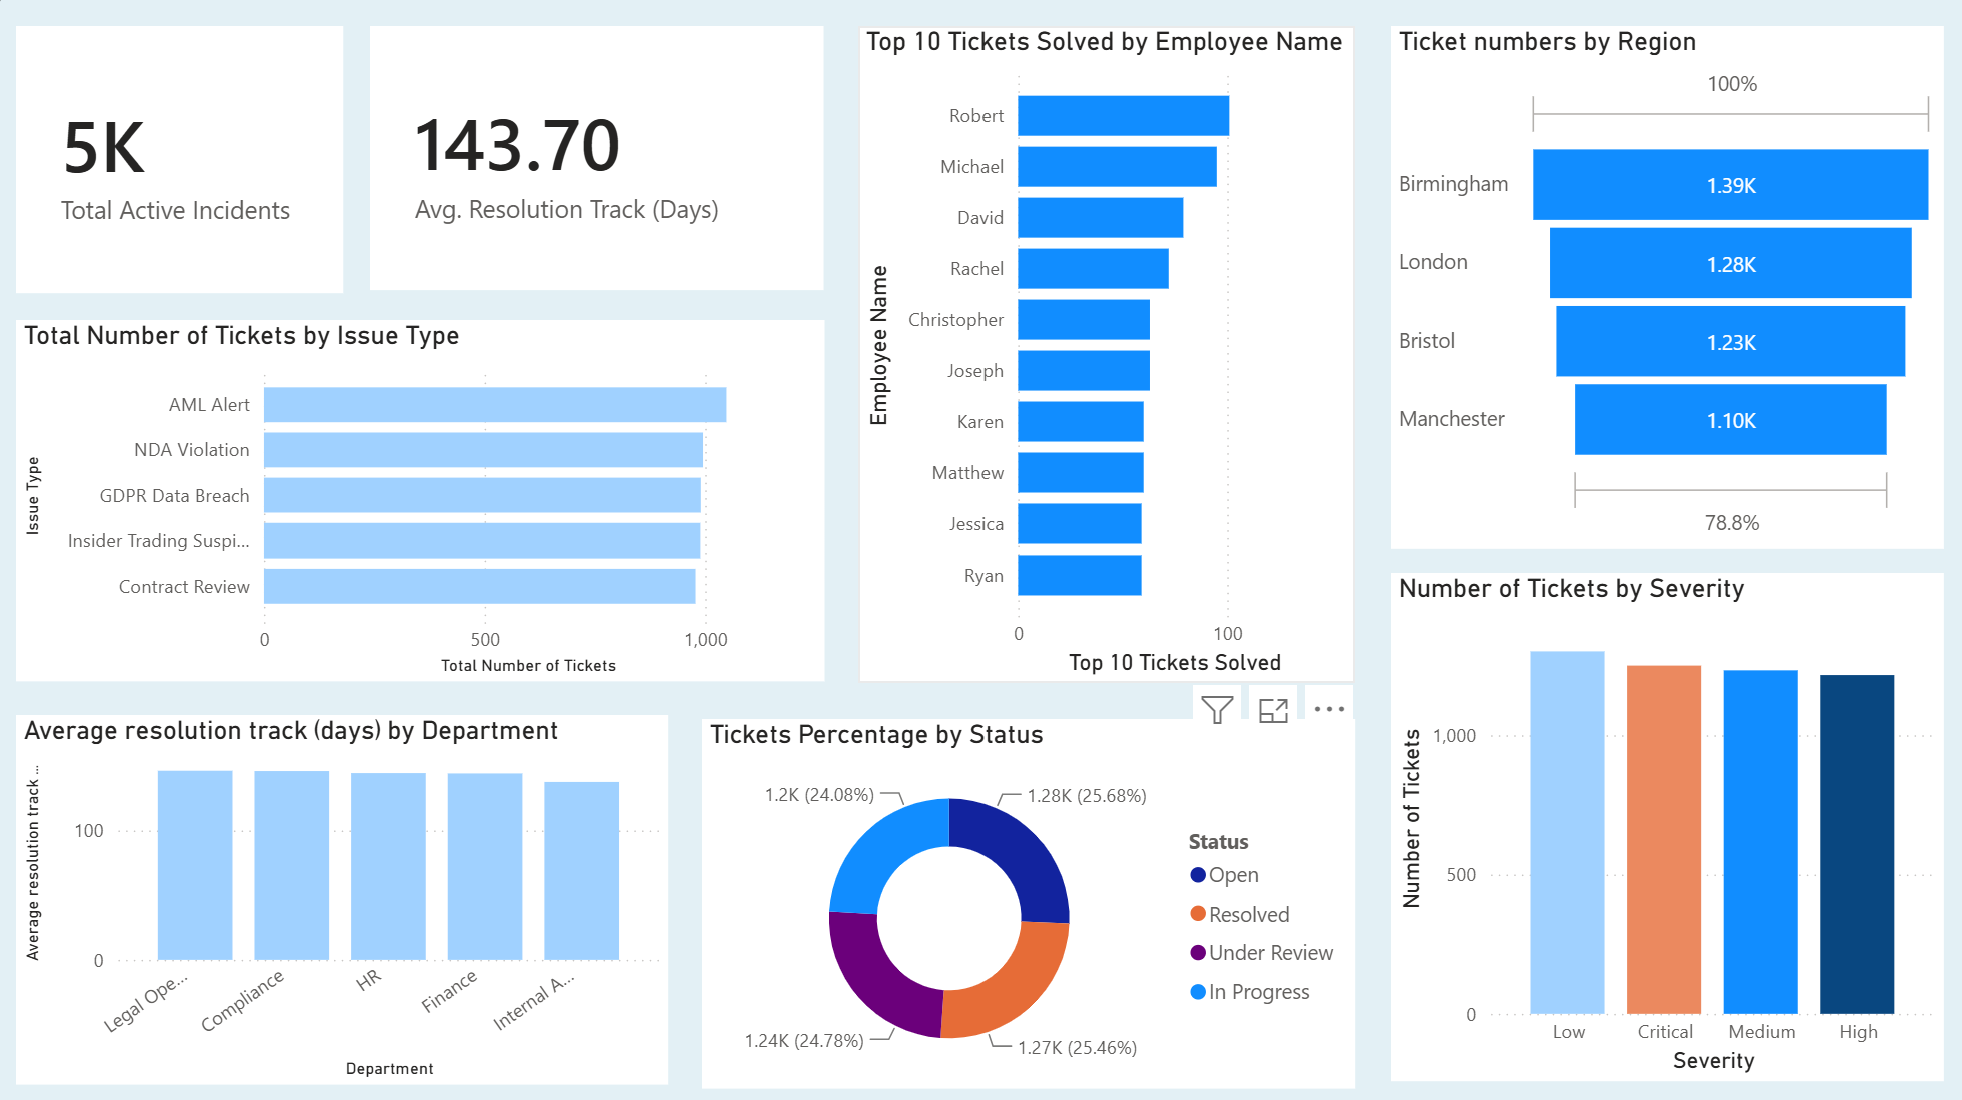

The page's visual inventory and layout, read from the dashboard file:
{"tool":"powerbi","page":{"name":"Page 1","canvas":[1280,720],"ordinal":0},"visuals":[{"type":"cardVisual","fields":{"Data":["Count(public v_compliance_ticket_metrics.ticket_id)"]},"box":[11.7,19.5,212.7,173.7],"z":0},{"type":"cardVisual","fields":{"Data":["Avg(public v_compliance_ticket_metrics.ticket_age_days)"]},"box":[242,19.5,294.6,171.7],"z":1000},{"type":"clusteredBarChart","fields":{"Category":["public v_compliance_ticket_metrics.issue_type"],"Y":["CountNonNull(public v_compliance_ticket_metrics.ticket_id)"]},"box":[11.7,210.7,524.9,234.1],"z":2000},{"type":"clusteredColumnChart","fields":{"Category":["public v_clean_employees.department"],"Y":["Avg(public v_compliance_ticket_metrics.ticket_age_days)"]},"box":[11.7,466.3,423.4,240],"z":3000},{"type":"donutChart","fields":{"Category":["public v_compliance_ticket_metrics.status"],"Y":["Count(public v_compliance_ticket_metrics.ticket_id)"]},"box":[456.6,468.3,423.4,240],"z":4000},{"type":"clusteredColumnChart","fields":{"Category":["public v_compliance_ticket_metrics.severity"],"Y":["Count(public v_compliance_ticket_metrics.ticket_id)"]},"box":[903.4,374.6,359,329.8],"z":5000},{"type":"funnel","fields":{"Category":["public v_clean_employees.region"],"Y":["CountNonNull(public v_compliance_ticket_metrics.ticket_id)"]},"box":[903.4,19.5,359,339.5],"z":6000},{"type":"clusteredBarChart","fields":{"Category":["public v_clean_employees.first_name"],"Y":["CountNonNull(public v_compliance_ticket_metrics.ticket_id)"]},"box":[558,19.5,322,425.4],"z":6001}]}

Visuals, with their boxes in screenshot pixels (x1, y1, x2, y2), scaled from the page's 1280x720 canvas onto the 1962x1100 screenshot:
cardVisual - Count(public v_compliance_ticket_metrics.ticket_id): 18 30 344 295
cardVisual - Avg(public v_compliance_ticket_metrics.ticket_age_days): 371 30 823 292
clusteredBarChart - public v_compliance_ticket_metrics.issue_type x CountNonNull(public v_compliance_ticket_metrics.ticket_id): 18 322 823 680
clusteredColumnChart - public v_clean_employees.department x Avg(public v_compliance_ticket_metrics.ticket_age_days): 18 712 667 1079
donutChart - public v_compliance_ticket_metrics.status x Count(public v_compliance_ticket_metrics.ticket_id): 700 715 1349 1082
clusteredColumnChart - public v_compliance_ticket_metrics.severity x Count(public v_compliance_ticket_metrics.ticket_id): 1385 572 1935 1076
funnel - public v_clean_employees.region x CountNonNull(public v_compliance_ticket_metrics.ticket_id): 1385 30 1935 548
clusteredBarChart - public v_clean_employees.first_name x CountNonNull(public v_compliance_ticket_metrics.ticket_id): 855 30 1349 680
